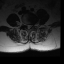CCS_normal: (27, 22, 29, 31)
LFS_severe_stenosis: (31, 22, 33, 27)
LLS_stenosis: (30, 22, 32, 29)
RFS_stenosis: (24, 21, 26, 27)
RLS_stenosis: (25, 22, 28, 29)
